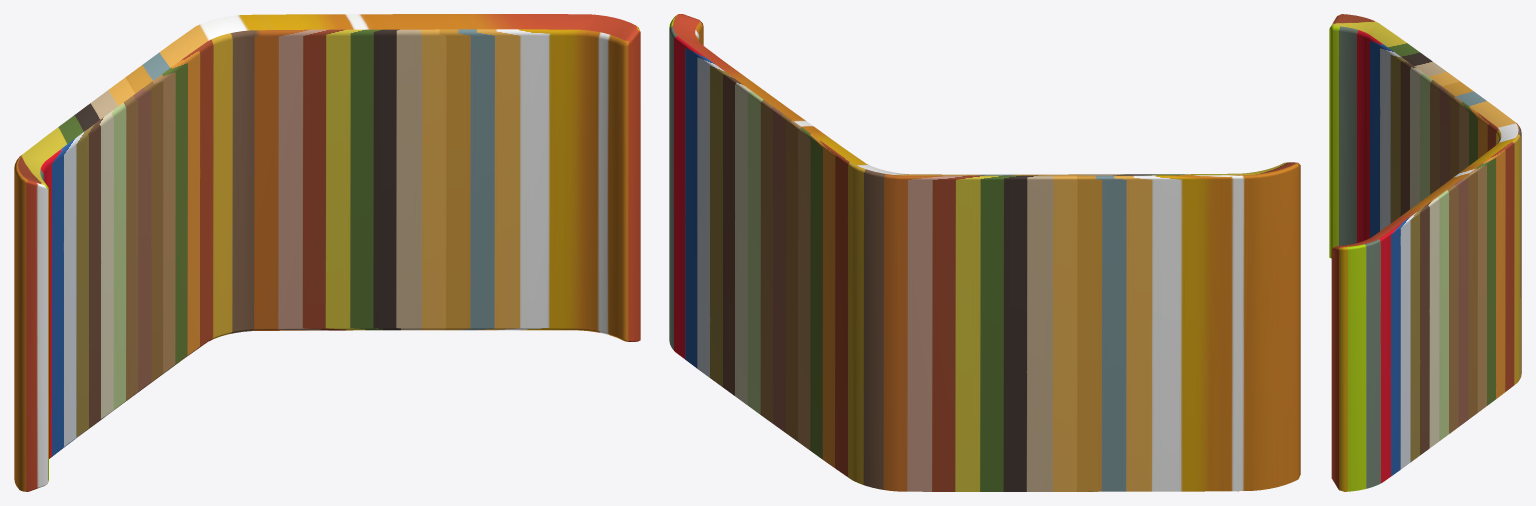
File: highpolywall.fbx
The picture shows the model from 3 angles, left to right: view 1: azimuth 30°, elevation 25°; view 2: azimuth 150°, elevation 25°; view 3: azimuth 270°, elevation 25°; orthographic projection. The views are drawn at different scales.
Visible parts, largest first — view 1: wall_Meeting_Quad; view 2: wall_Meeting_Quad; view 3: wall_Meeting_Quad.
Part boxes in pixels (box(x1,y1,x2,y2)): wall_Meeting_Quad: box(14, 14, 640, 491); wall_Meeting_Quad: box(669, 14, 1300, 491); wall_Meeting_Quad: box(1329, 14, 1521, 491).
Size of the model in its own units: 442 by 214 by 152.
